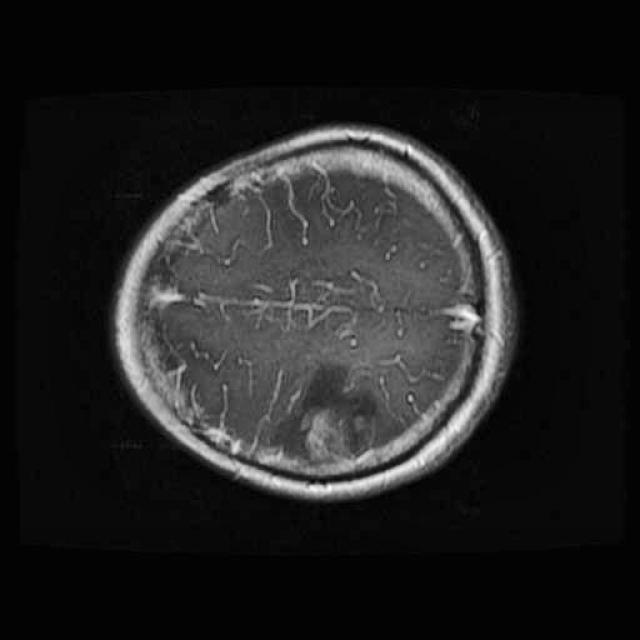Non-Tumor: (271, 346, 386, 481)
